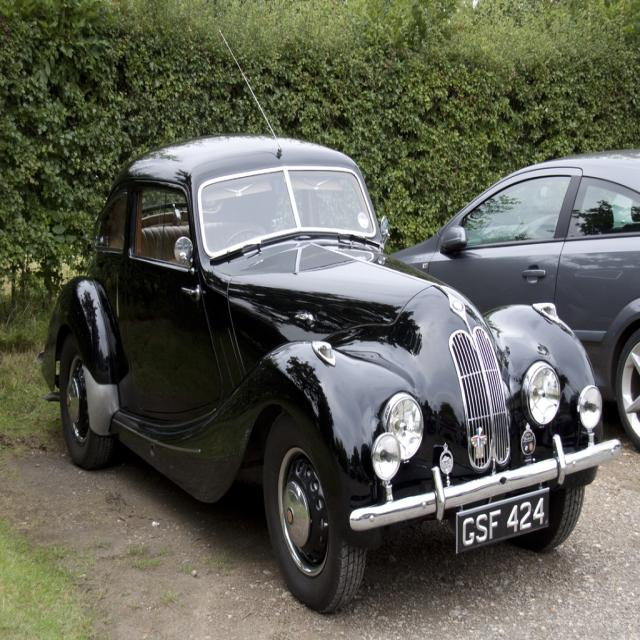other: (38, 26, 620, 615), (384, 143, 640, 450)
